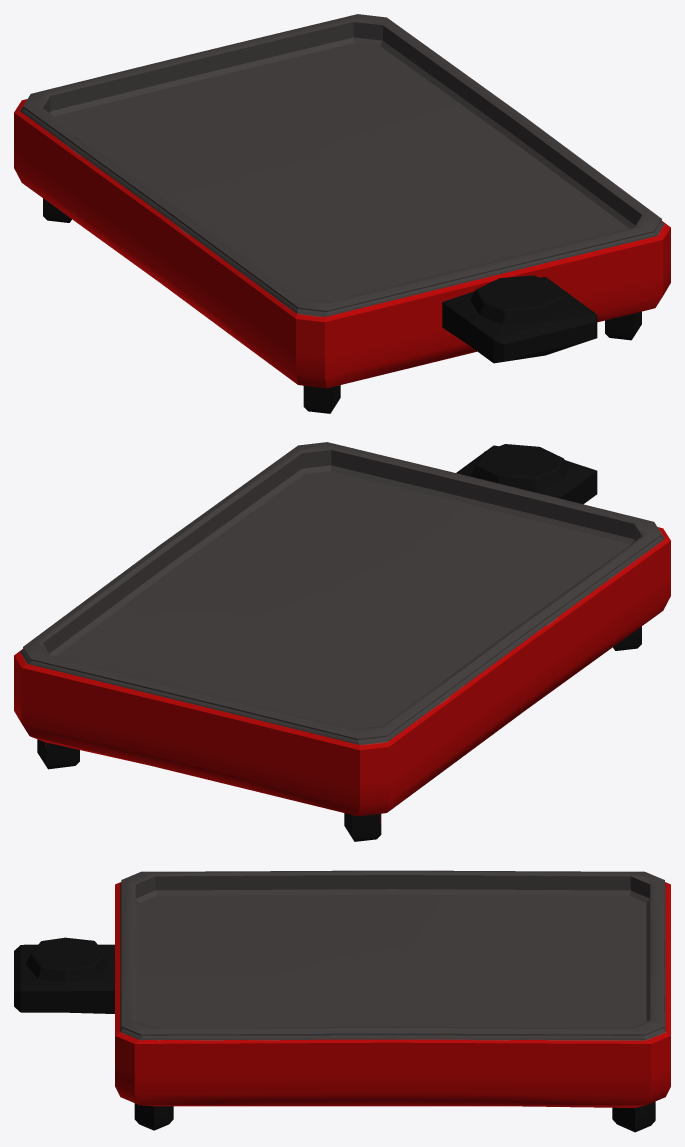
File: HotPlate.fbx
The picture shows the model from 3 angles, top to bottom: view 1: azimuth 30°, elevation 25°; view 2: azimuth 150°, elevation 25°; view 3: azimuth 270°, elevation 25°; orthographic projection. The views are drawn at different scales.
Parts seen in each view (by area): view 1: polySurface2, polySurface4; view 2: polySurface2, polySurface4; view 3: polySurface2, polySurface4.
Part boxes in pixels (bbox=[...]): polySurface2: bbox=[20, 14, 664, 316]; polySurface4: bbox=[14, 99, 670, 413]; polySurface2: bbox=[20, 442, 664, 744]; polySurface4: bbox=[14, 444, 670, 841]; polySurface2: bbox=[120, 870, 665, 1040]; polySurface4: bbox=[14, 882, 670, 1132].
Bounding box in the file's own units: 543 × 165 × 899.
